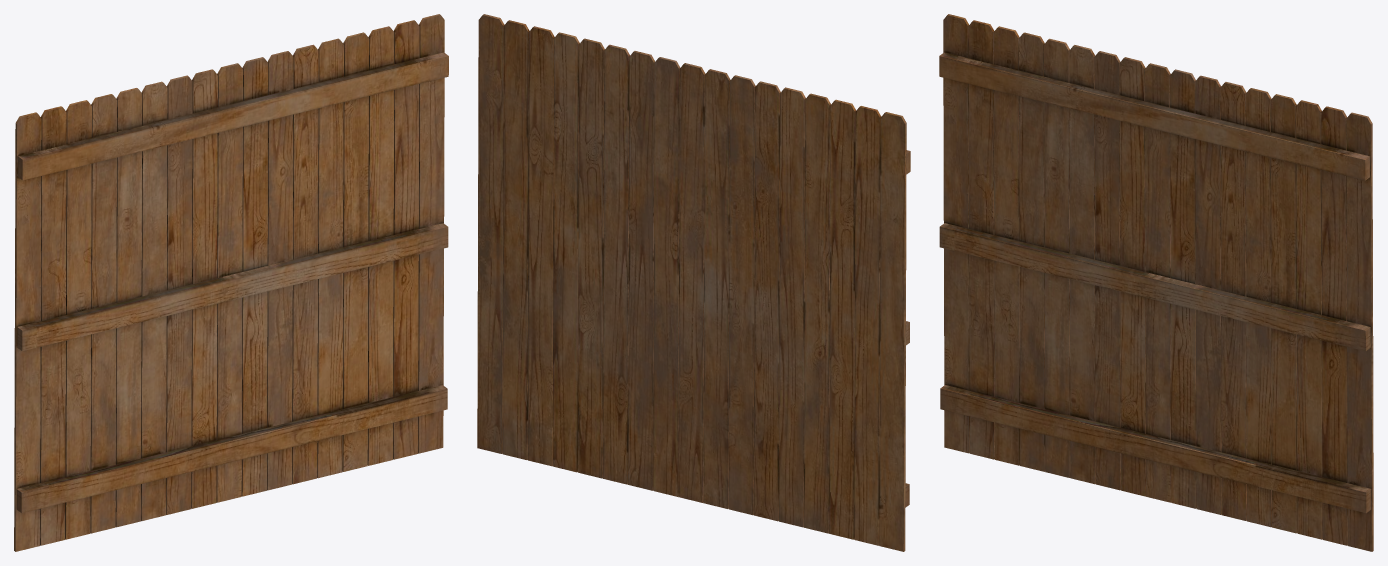
Rendered from privacy_panel.glb.
The picture shows the model from 3 angles, left to right: view 1: azimuth 30°, elevation 25°; view 2: azimuth 150°, elevation 25°; view 3: azimuth 330°, elevation 25°; orthographic projection.
Visible parts, largest first — view 1: Fence_17_DE; view 2: Fence_17_DE; view 3: Fence_17_DE.
Part boxes in pixels (left/top/right/bottom): Fence_17_DE: left=14, top=14, right=448, bottom=551; Fence_17_DE: left=477, top=14, right=910, bottom=551; Fence_17_DE: left=939, top=14, right=1373, bottom=551.
Size of the model in its own units: 1 by 0.9706 by 0.0317.
Materials: 1 (1 with a texture image).
